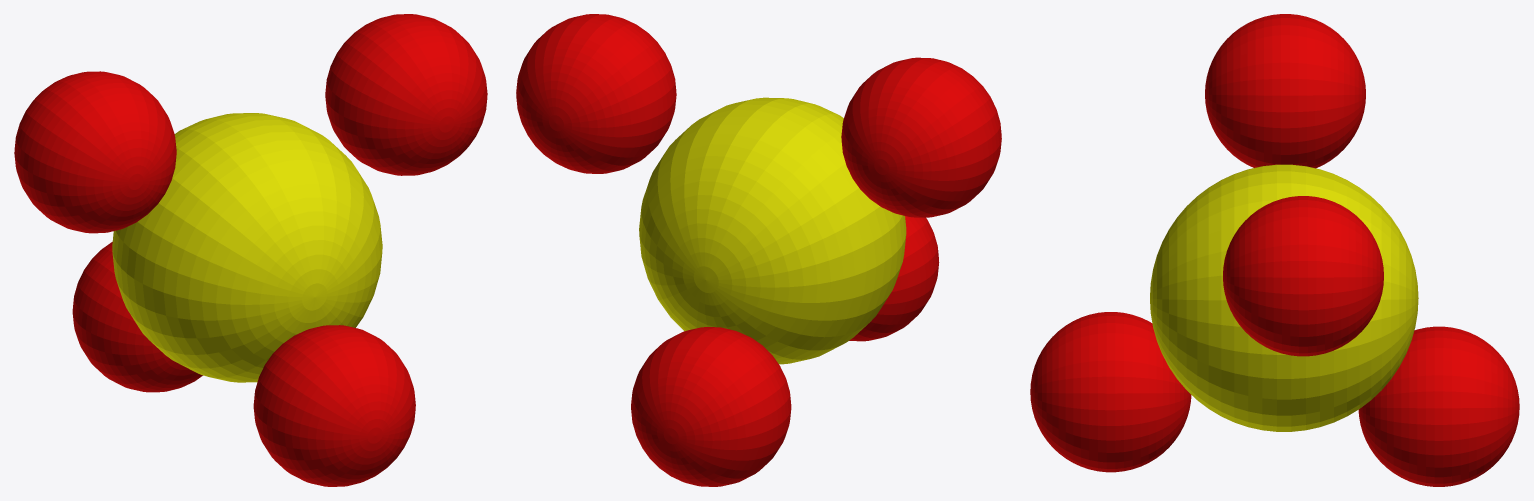
The model's file is Calcium Sulfate.glb.
3 renders of one model, left to right at view 1: azimuth 30°, elevation 25°; view 2: azimuth 150°, elevation 25°; view 3: azimuth 270°, elevation 25°, orthographic.
Visible parts, largest first — view 1: world; view 2: world; view 3: world.
Boxes of the visible parts, <box> form: world: <box>14,14,487,486</box>; world: <box>516,14,1001,486</box>; world: <box>1030,14,1519,486</box>.
Size of the model in its own units: 3.93 by 3.22 by 3.64.
